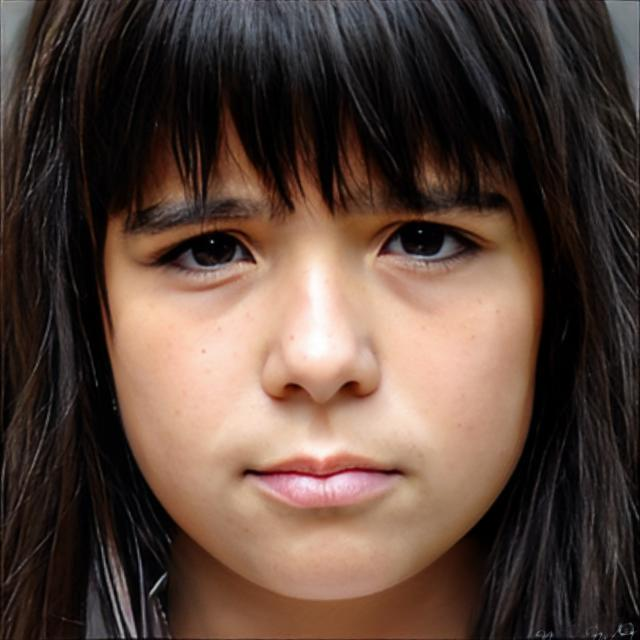sad: (100, 84, 547, 602)
